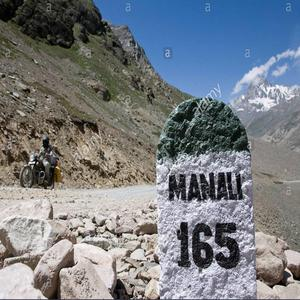kmstone: (157, 90, 255, 300)
